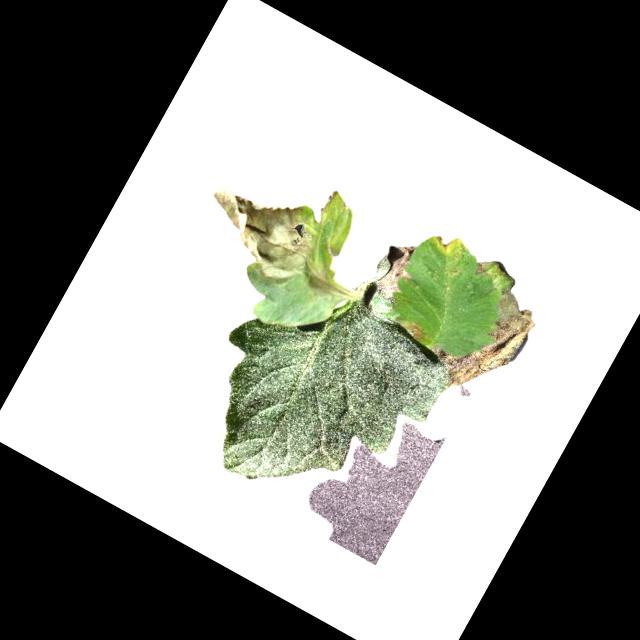Late_blight: (186, 164, 333, 298), (420, 270, 545, 409), (363, 235, 426, 307), (301, 263, 346, 304), (315, 187, 350, 228), (428, 225, 466, 261), (396, 315, 432, 345), (470, 256, 494, 282)
healthy: (171, 259, 459, 544)
